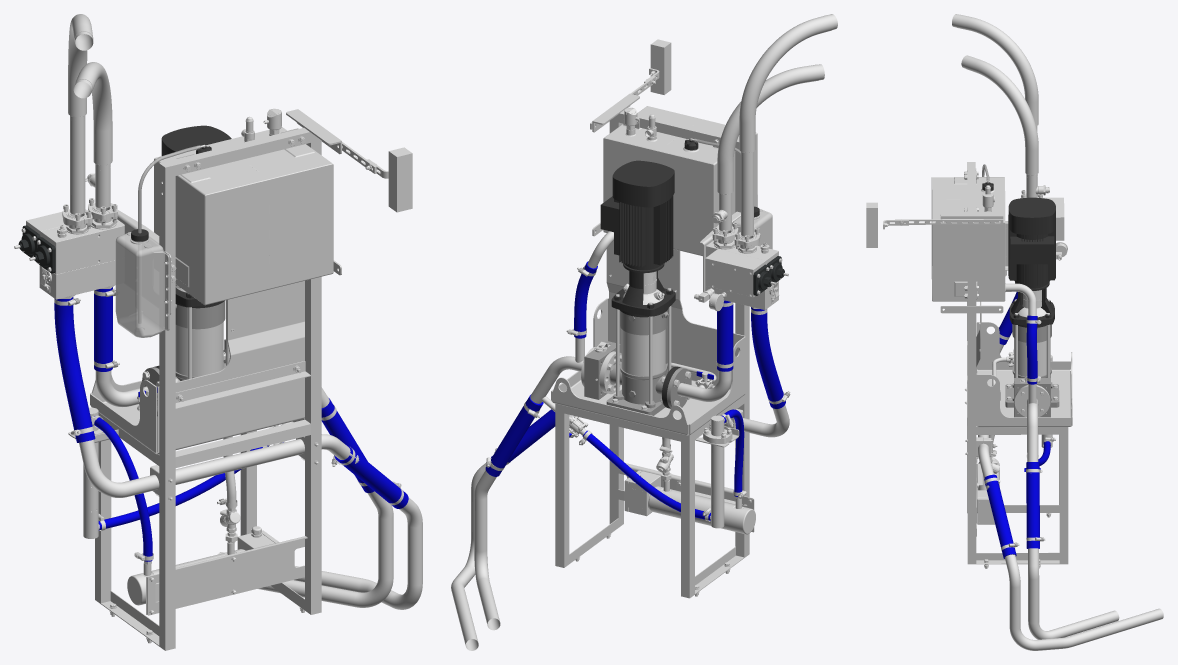
Rendered from TowerCoolingPump.fbx.
3 views of the same model, side by side, from view 1: azimuth 30°, elevation 25°; view 2: azimuth 150°, elevation 25°; view 3: azimuth 270°, elevation 25° (orthographic). The views are drawn at different scales.
Parts seen in each view (by area): view 1: TowerCoolingPump_Part19, TowerCoolingPump_Part17, TowerCoolingPump_Part18, CoolantCap; view 2: TowerCoolingPump_Part17, TowerCoolingPump_Part19, TowerCoolingPump_Part18; view 3: TowerCoolingPump_Part19, TowerCoolingPump_Part17, TowerCoolingPump_Part18.
Part boxes in pixels (bbox=[...]): TowerCoolingPump_Part19: bbox=[14, 62, 412, 650]; TowerCoolingPump_Part17: bbox=[42, 260, 422, 646]; TowerCoolingPump_Part18: bbox=[21, 14, 408, 643]; CoolantCap: bbox=[138, 144, 211, 323]; TowerCoolingPump_Part17: bbox=[451, 222, 789, 650]; TowerCoolingPump_Part19: bbox=[587, 39, 824, 557]; TowerCoolingPump_Part18: bbox=[486, 14, 837, 596]; TowerCoolingPump_Part19: bbox=[866, 55, 1064, 564]; TowerCoolingPump_Part17: bbox=[940, 242, 1163, 650]; TowerCoolingPump_Part18: bbox=[952, 14, 1068, 568].
Bounding box in the file's own units: 148 × 258 × 137.
